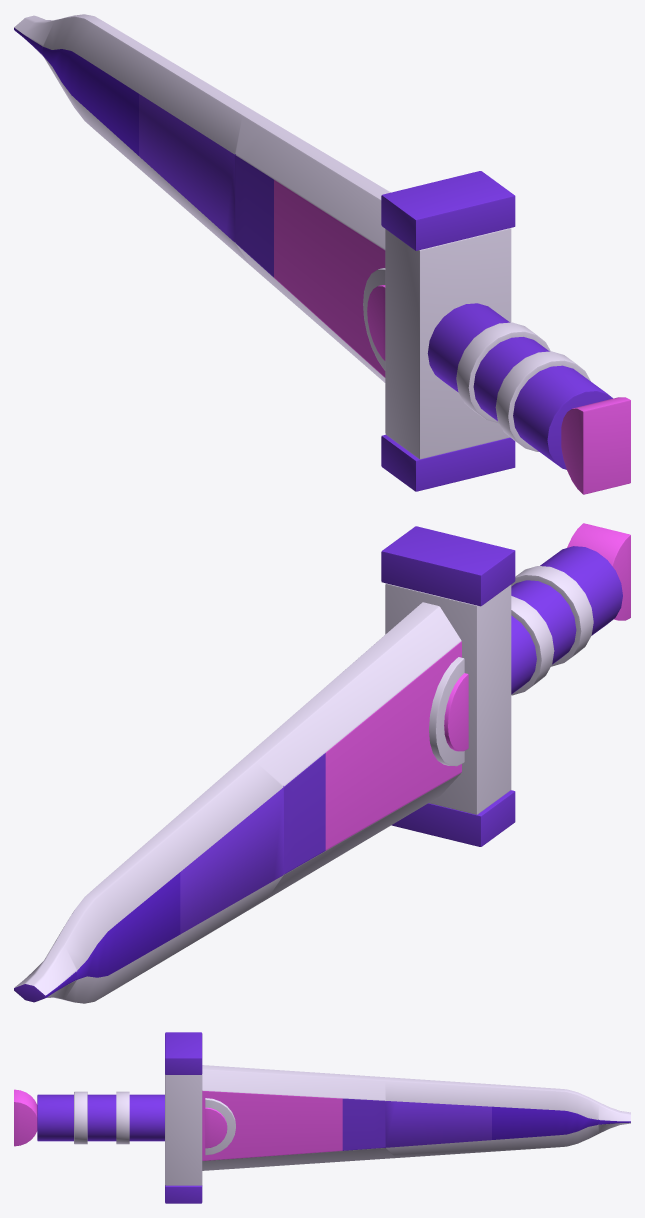
Rendered from Sword_EventideClaymore.glb.
3 views of the same model, one above another, from view 1: azimuth 30°, elevation 25°; view 2: azimuth 150°, elevation 25°; view 3: azimuth 270°, elevation 25° (orthographic). The views are drawn at different scales.
Visible parts, largest first — view 1: Sword_EventideClaymore; view 2: Sword_EventideClaymore; view 3: Sword_EventideClaymore.
Boxes of the visible parts, x1=… form: Sword_EventideClaymore: x1=14, y1=14, x2=630, y2=494; Sword_EventideClaymore: x1=14, y1=523, x2=630, y2=1003; Sword_EventideClaymore: x1=14, y1=1032, x2=630, y2=1203.
Size of the model in its own units: 0.1 by 0.26 by 1.
1 material, 1 textured.
